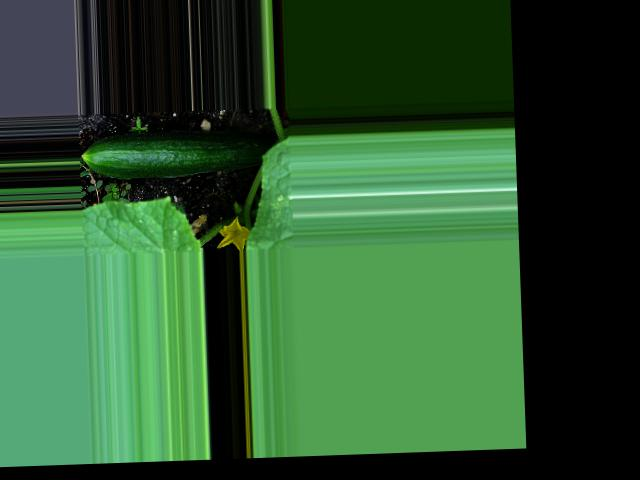cucumber: (79, 126, 273, 180)
